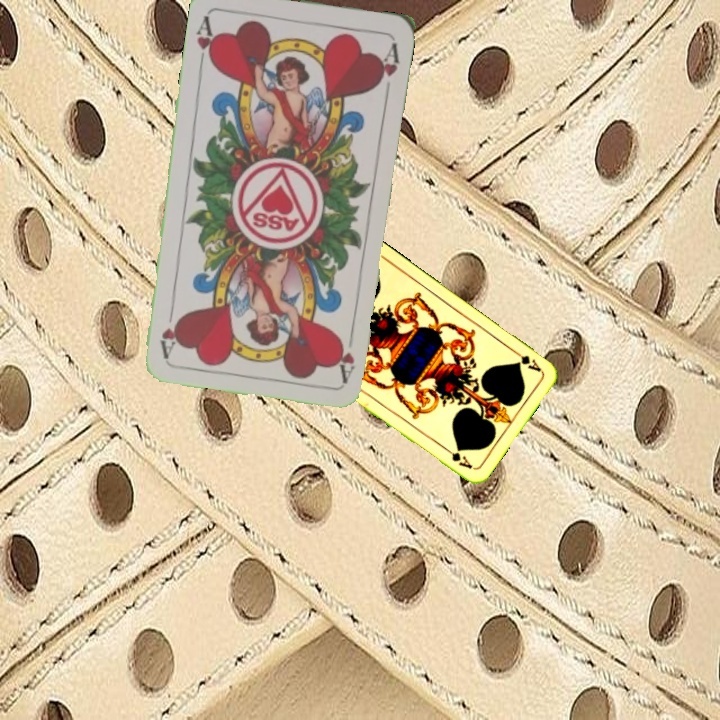GA: (508, 346, 544, 375)
HA: (192, 11, 219, 70), (332, 324, 357, 384)
